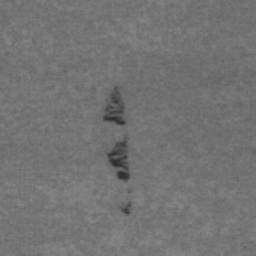Secondary rust skin: (106, 139, 131, 182), (102, 85, 127, 126), (120, 201, 132, 216)
